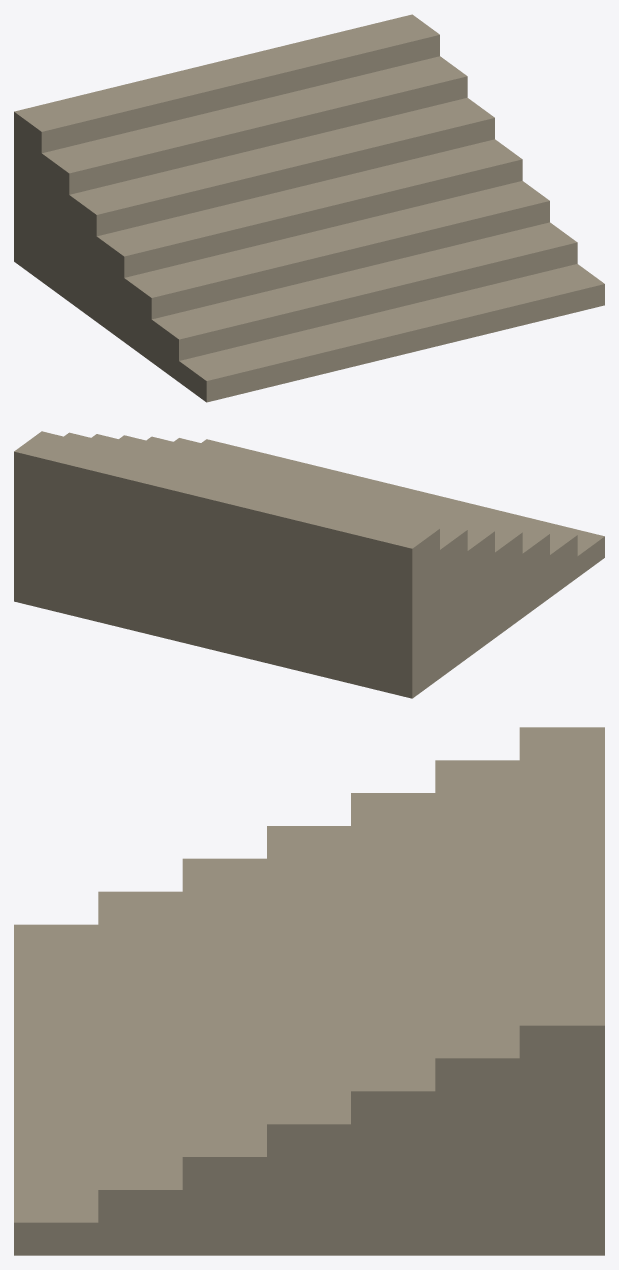
File: 095_river_landing_steps.glb
3 renders of one model, top to bottom at view 1: azimuth 30°, elevation 25°; view 2: azimuth 150°, elevation 25°; view 3: azimuth 270°, elevation 25°, orthographic. The views are drawn at different scales.
Parts seen in each view (by area): view 1: River landing steps; view 2: River landing steps; view 3: River landing steps.
Part boxes in pixels (bbox=[...]): River landing steps: bbox=[14, 14, 604, 402]; River landing steps: bbox=[14, 431, 604, 698]; River landing steps: bbox=[14, 727, 604, 1255].
Size of the model in its own units: 3.6 by 1.29 by 3.01.
